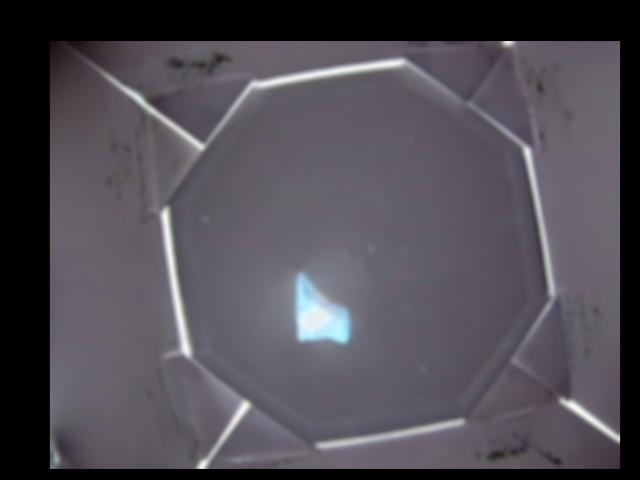Brisk: (296, 273, 351, 345)
